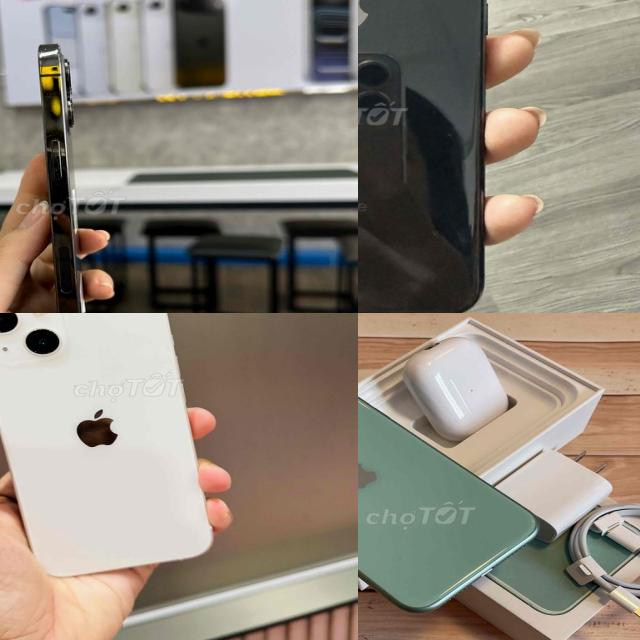gen_11: (358, 367, 541, 617)
gen_12_13: (0, 313, 212, 575), (36, 43, 91, 313)
gen_x_xs: (358, 0, 500, 313)
scratch: (439, 124, 457, 152)
